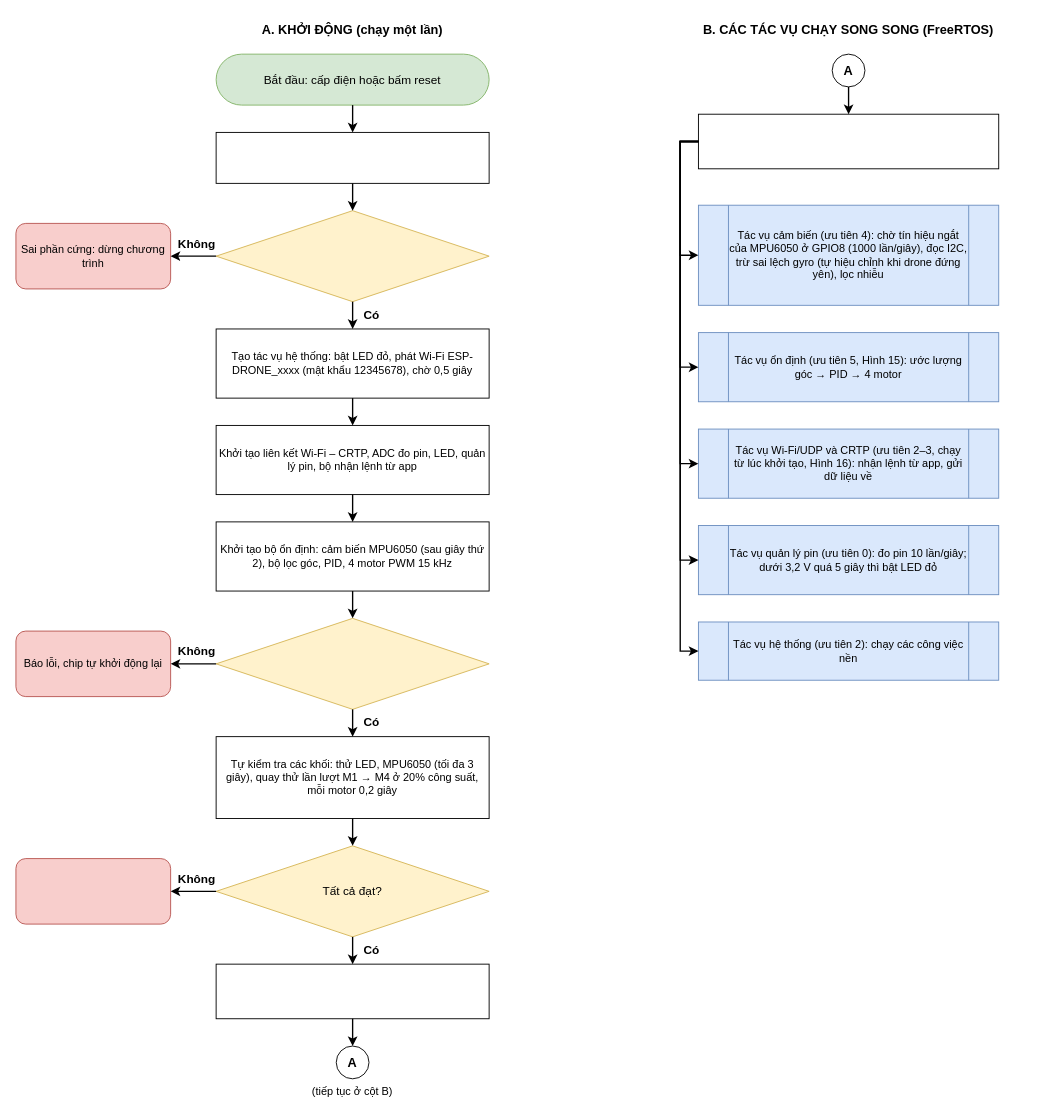
This 1042x1116 diagram has some shape labels left out. Here are the shapes that lost their labels. From the top down, the centre of each, then its label:
the point at 352,157: Khởi tạo bộ nhớ flash (NVS) để dùng cho Wi-Fi
the point at 848,141: FreeRTOS chạy đồng thời các tác vụ; tác vụ ưu tiên cao hơn được chạy trước
the point at 352,256: Firmware đúng phần cứng?
the point at 352,663: Kết nối được MPU6050?
the point at 93,891: Không cho bay, báo lỗi lặp lại mỗi 2 giây (LED xanh lá không chớp 5 lần)
the point at 352,991: Cho các tác vụ còn lại bắt đầu chạy; LED xanh lá chớp 5 lần
